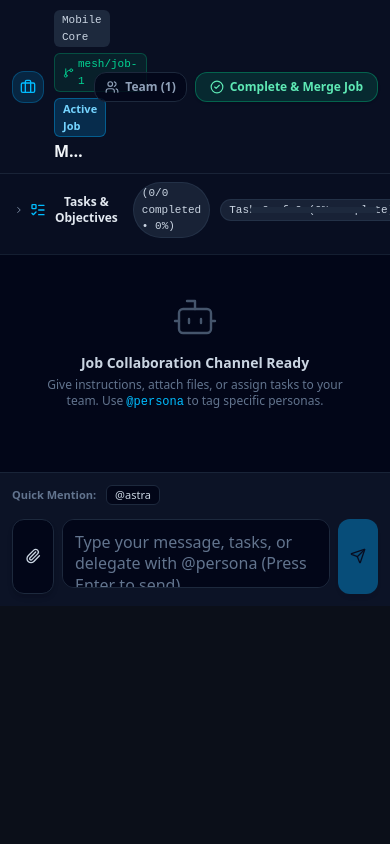
Mobile Responsiveness & Master-Detail Navigation › manages Team & Activity drawer slide-over and close in JobCockpit on mobile
(page scrolled)
// Open sidebar drawer via header button
Step 1. Click the button with test id "toggle-team-sidebar-btn" → (140, 86), box 94,72 -> 187,102
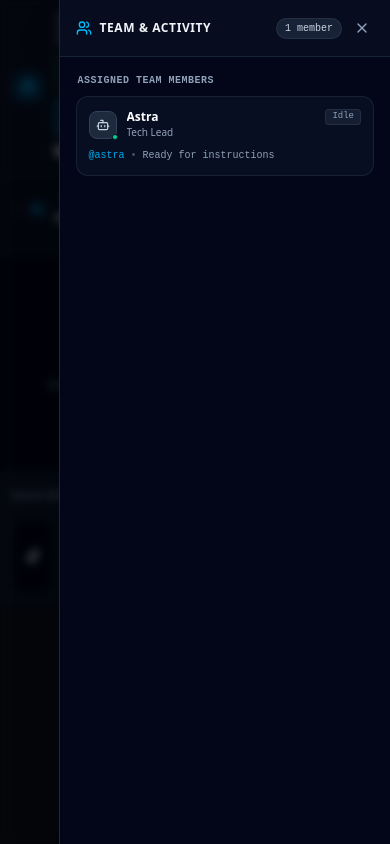
Expected: the element with test id "job-team-sidebar" is shown
Expected: the element with test id "job-team-sidebar-backdrop" is shown
// Clicking backdrop closes drawer
Step 2. Click the element with test id "job-team-sidebar-backdrop" → (23, 422), box 0,0 -> 389,843
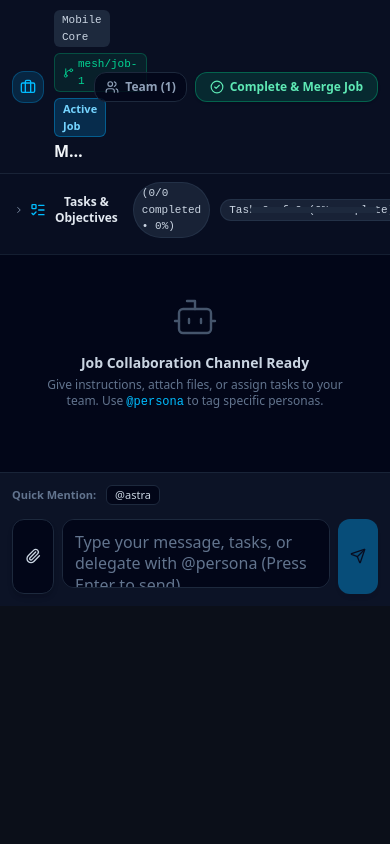
Expected: the element with test id "job-team-sidebar" is gone
